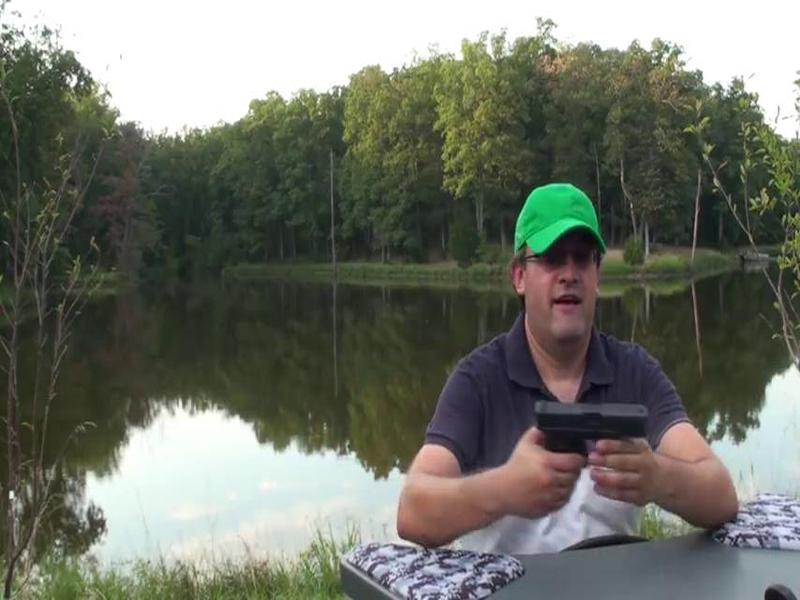Pistola: (527, 384, 665, 499)
